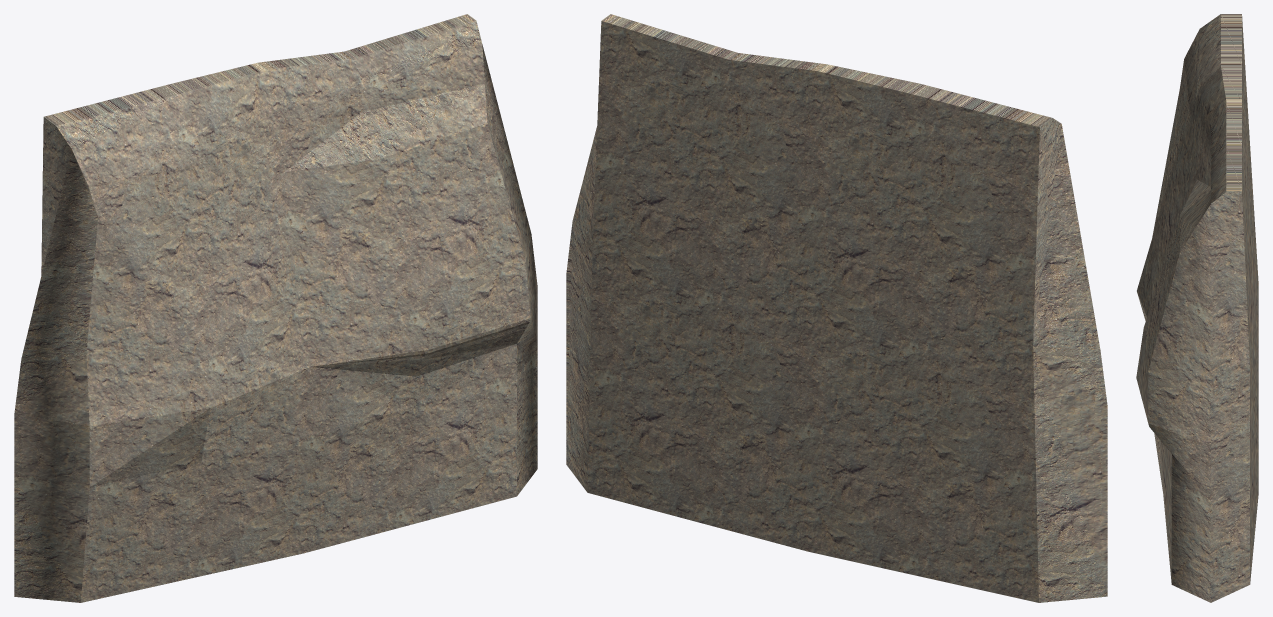
The model's file is Cliffwall.fbx.
The picture shows the model from 3 angles, left to right: view 1: azimuth 30°, elevation 25°; view 2: azimuth 150°, elevation 25°; view 3: azimuth 270°, elevation 25°; orthographic projection. The views are drawn at different scales.
Visible parts, largest first — view 1: pasted__pCube1; view 2: pasted__pCube1; view 3: pasted__pCube1.
Part boxes in pixels (<box>): pasted__pCube1: <box>14,14,537,602</box>; pasted__pCube1: <box>566,14,1107,602</box>; pasted__pCube1: <box>1136,14,1258,602</box>.
Bounding box in the file's own units: 52.77 × 44.05 × 12.48.
Materials: 1 (1 with a texture image).
